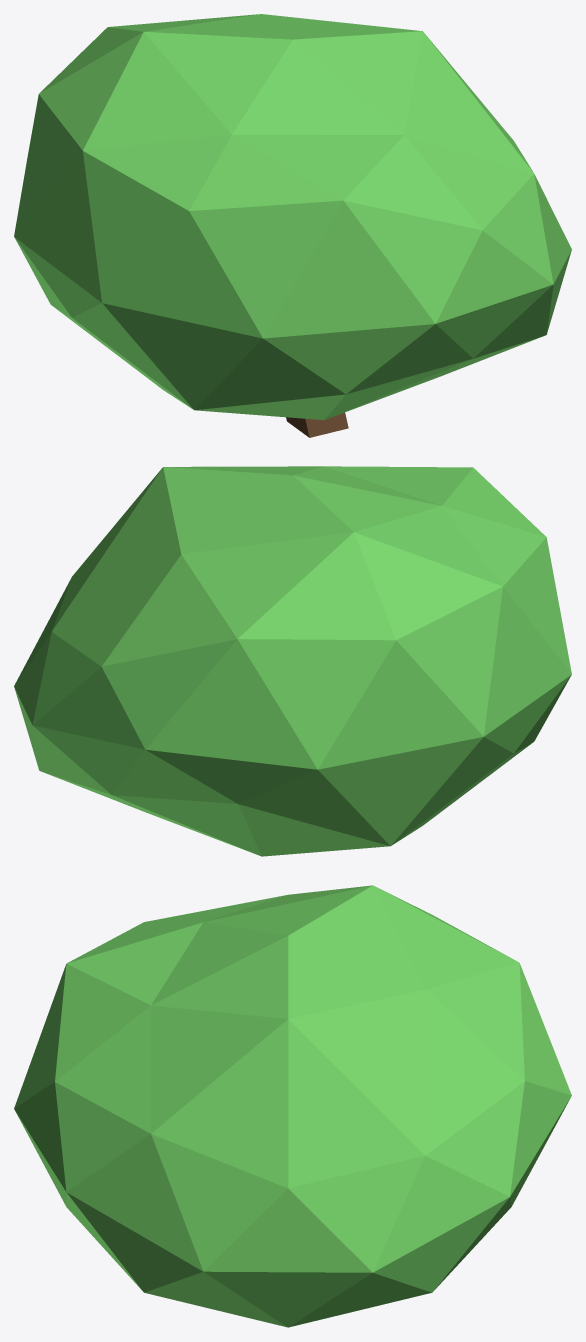
Rendered from Bush01.fbx.
3 renders of one model, top to bottom at view 1: azimuth 30°, elevation 25°; view 2: azimuth 150°, elevation 25°; view 3: azimuth 270°, elevation 25°, orthographic. The views are drawn at different scales.
Parts seen in each view (by area): view 1: Icosphere.006, Cube; view 2: Icosphere.006; view 3: Icosphere.006.
Part boxes in pixels (<box>): Icosphere.006: <box>14,14,571,419</box>; Cube: <box>286,412,348,437</box>; Icosphere.006: <box>14,466,571,856</box>; Icosphere.006: <box>14,885,571,1327</box>.
Bounding box in the file's own units: 190 × 142 × 204.
